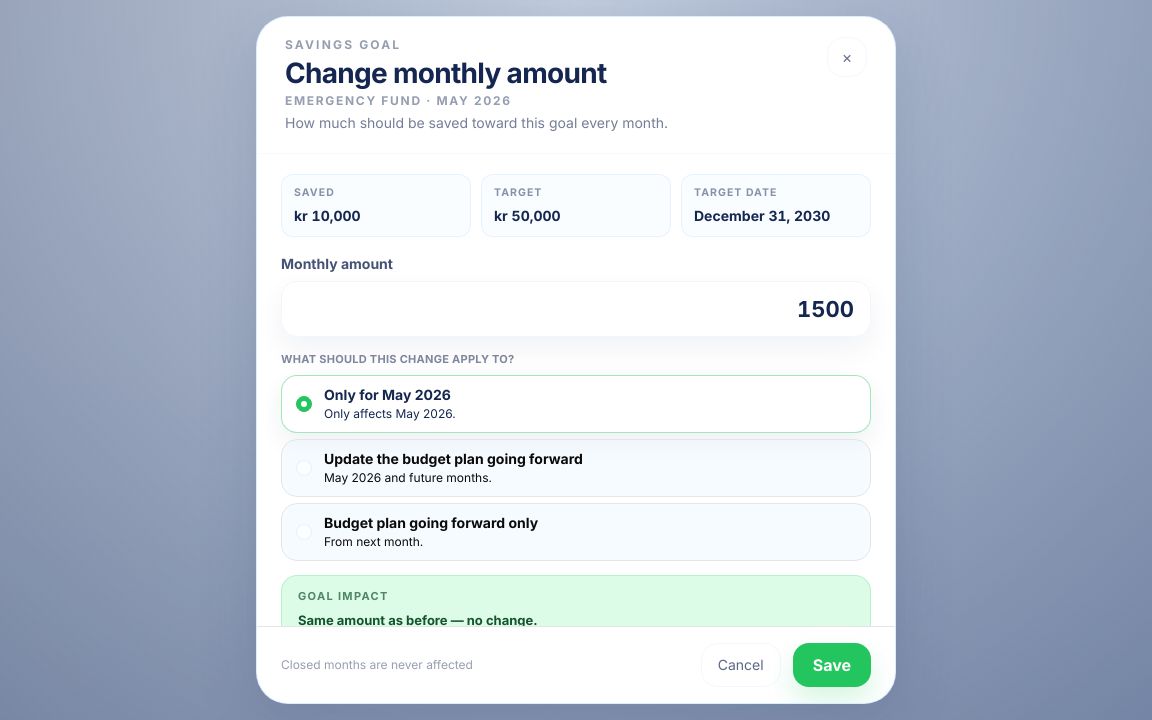
Scenario: SavingsGoalMonthlyModal › blocks invalid monthly values
Replace the text in the field labelled "Monthly amount" with "1234.567": (576, 309) [281,281,871,337]
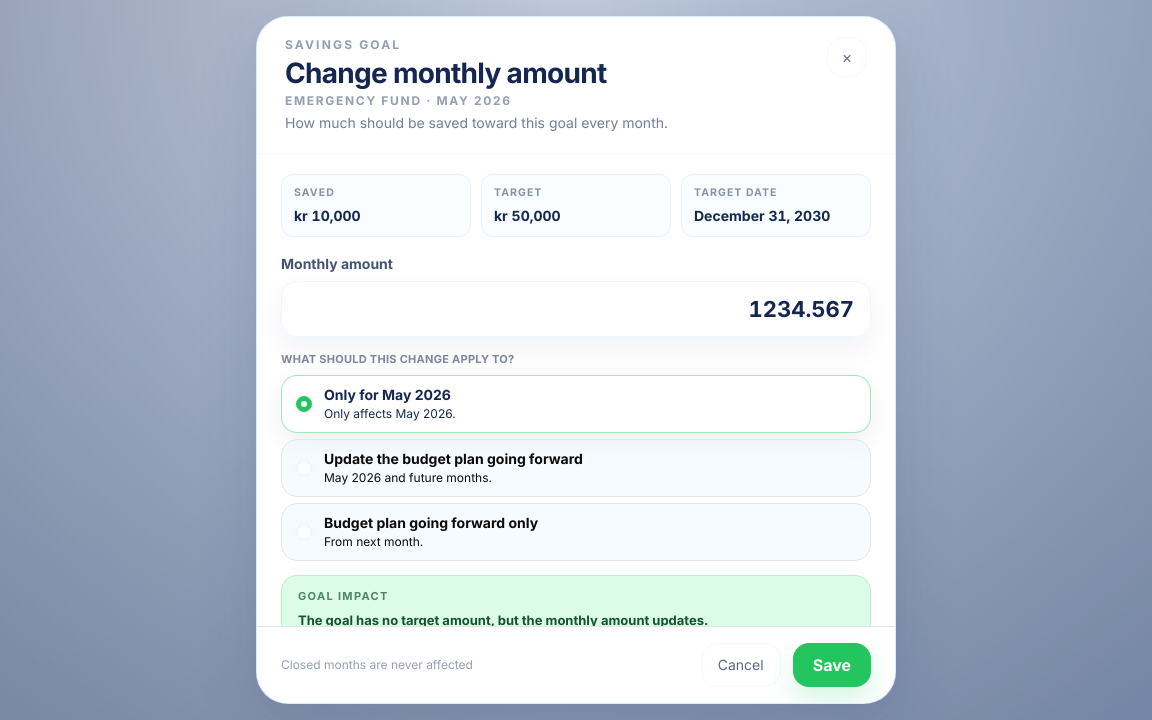
Click the button "Save": (832, 665) [793,643,871,687]
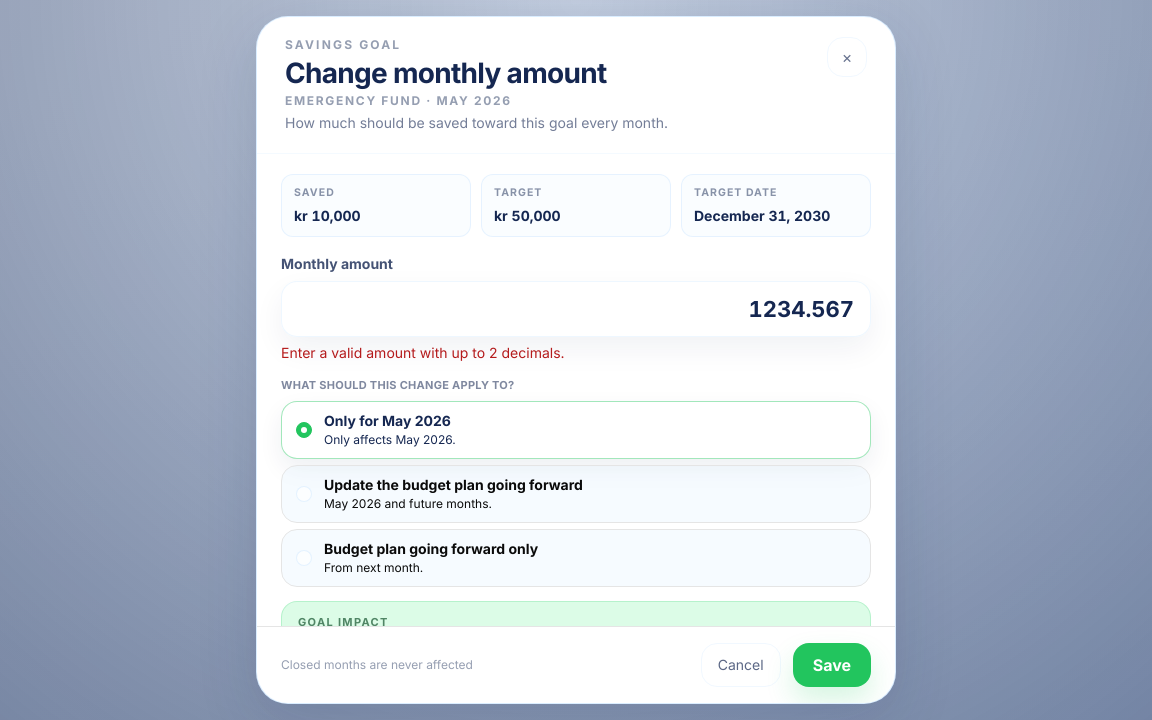
Result: the text "Enter a valid amount with up to 2 decimals." is shown at [281,344,565,361]
